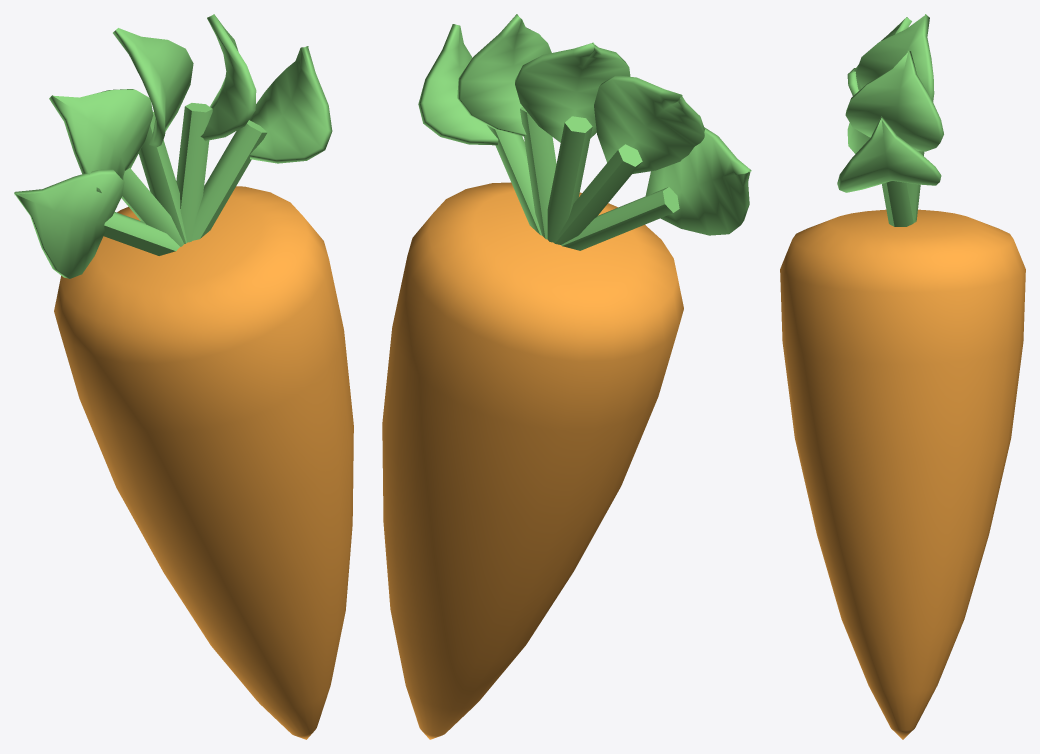
Rendered from veg_carrot.glb.
The picture shows the model from 3 angles, left to right: view 1: azimuth 30°, elevation 25°; view 2: azimuth 150°, elevation 25°; view 3: azimuth 270°, elevation 25°; orthographic projection. The views are drawn at different scales.
Parts seen in each view (by area): view 1: veg_carrot; view 2: veg_carrot; view 3: veg_carrot.
Boxes of the visible parts, <box> form: veg_carrot: <box>14,14,353,739</box>; veg_carrot: <box>382,14,751,739</box>; veg_carrot: <box>780,14,1025,739</box>.
Size of the model in its own units: 0.2777 by 0.5844 by 0.2.
